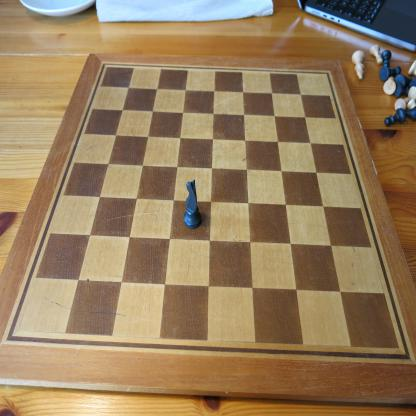black-knight: (183, 179, 202, 230)
black-pawn: (384, 107, 406, 127)
white-bishop: (351, 50, 365, 80)
white-pawn: (369, 44, 383, 65)
